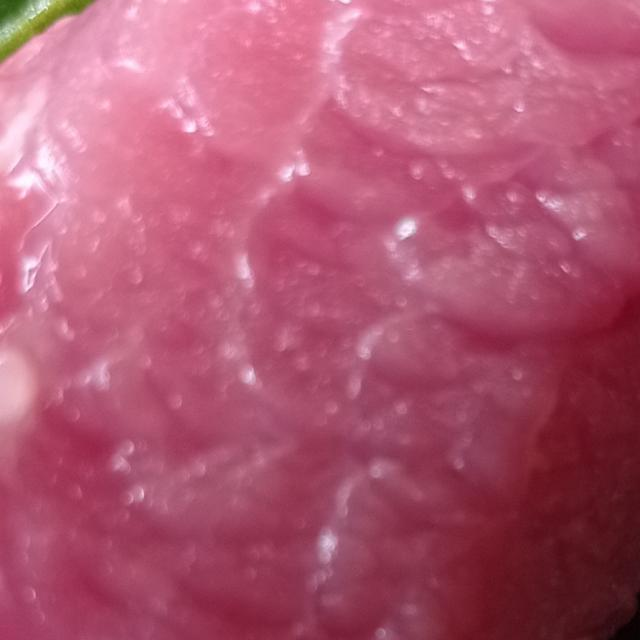Pork: (2, 0, 640, 640)
